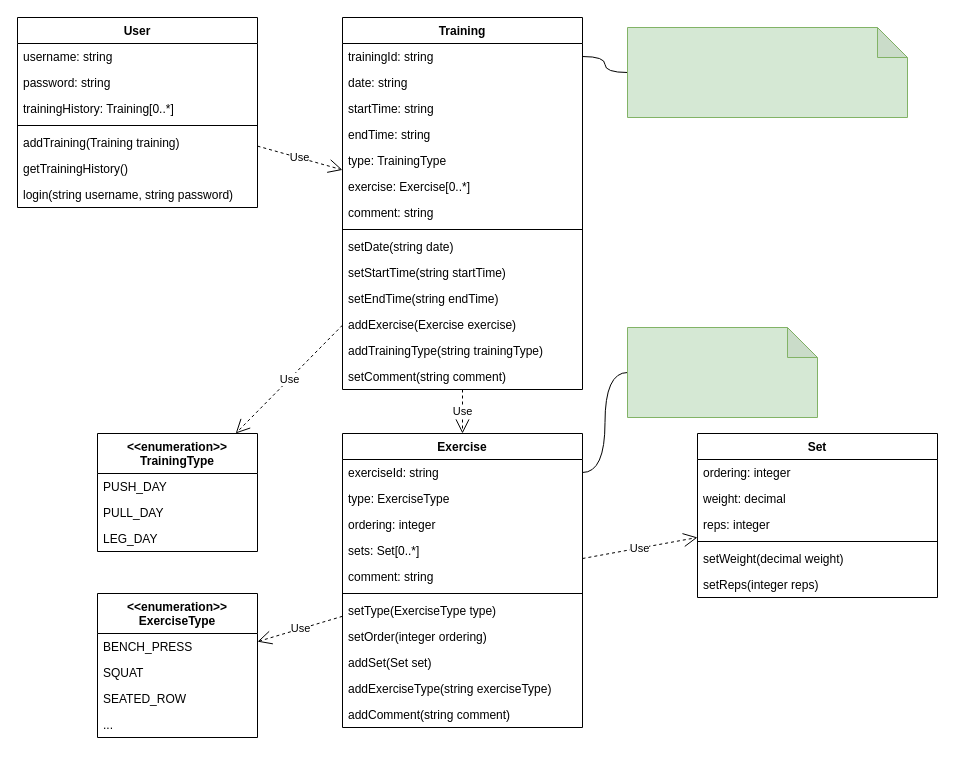
Image size: 955x758. Some labels were removed from this diagram. The box of each missing label's shape, as (x1, y1, x2, y2) in pixels:
exerciseId = trainingId + ordering: (626, 326, 818, 418)
trainingId = date + "_" + startTime + "_" + endTime: (626, 26, 908, 118)
